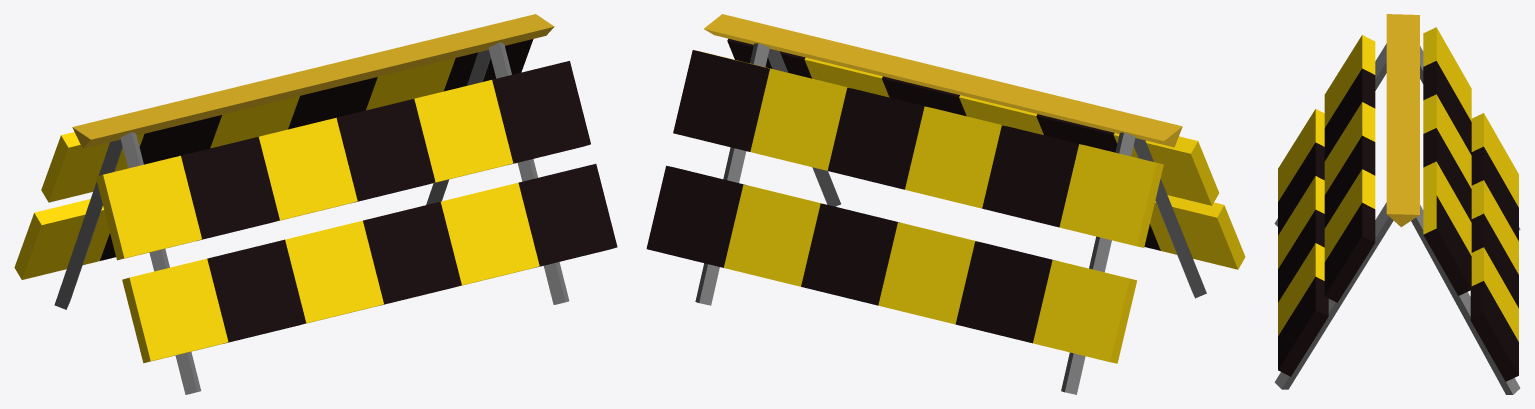
Rendered from roadbarrier.fbx.
3 renders of one model, left to right at view 1: azimuth 30°, elevation 25°; view 2: azimuth 150°, elevation 25°; view 3: azimuth 270°, elevation 25°, orthographic. The views are drawn at different scales.
Visible parts, largest first — view 1: Cylinder; view 2: Cylinder; view 3: Cylinder.
Boxes of the visible parts, <box> form: Cylinder: <box>14,14,617,394</box>; Cylinder: <box>646,14,1245,394</box>; Cylinder: <box>1274,14,1520,394</box>.
Size of the model in its own units: 200 by 94.24 by 103.
